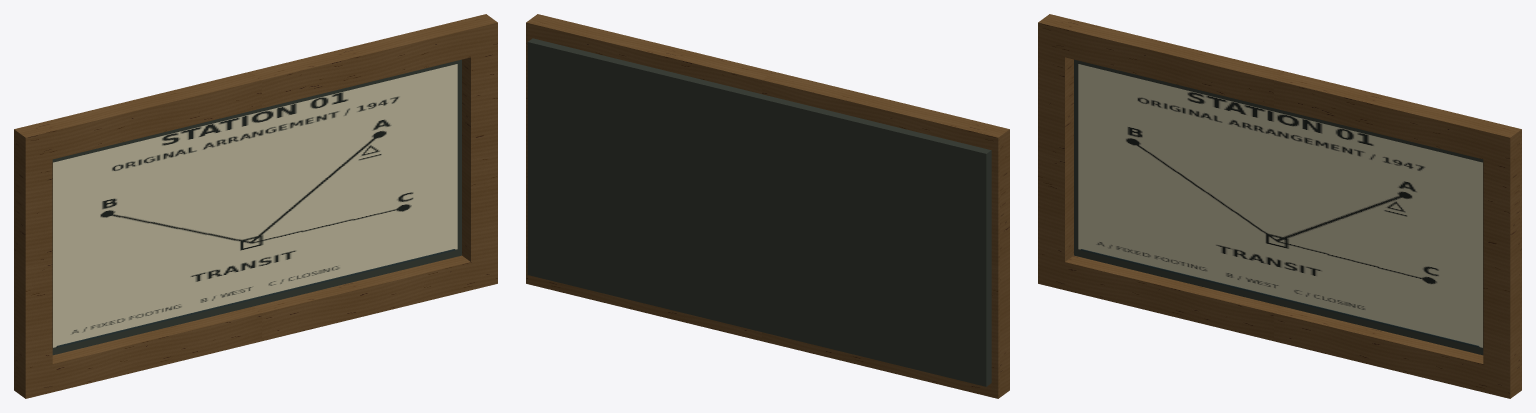
File: SM_FieldKit_Diagram_LOD2.glb
3 views of the same model, side by side, from view 1: azimuth 30°, elevation 25°; view 2: azimuth 150°, elevation 25°; view 3: azimuth 330°, elevation 25° (orthographic).
Parts seen in each view (by area): view 1: SM_FieldKit_Diagram_LOD2; view 2: SM_FieldKit_Diagram_LOD2; view 3: SM_FieldKit_Diagram_LOD2.
Part boxes in pixels (<box>): SM_FieldKit_Diagram_LOD2: <box>14,14,497,398</box>; SM_FieldKit_Diagram_LOD2: <box>526,14,1009,398</box>; SM_FieldKit_Diagram_LOD2: <box>1038,14,1521,398</box>.
Bounding box in the file's own units: 0.7 × 0.37 × 0.043.
Materials: 4 (2 with a texture image).
